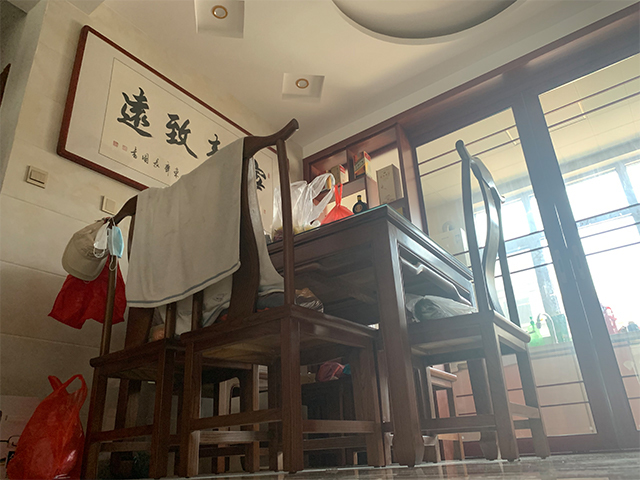stool: (179, 116, 387, 479), (373, 139, 553, 467), (78, 190, 261, 480)
table: (263, 203, 503, 469)
